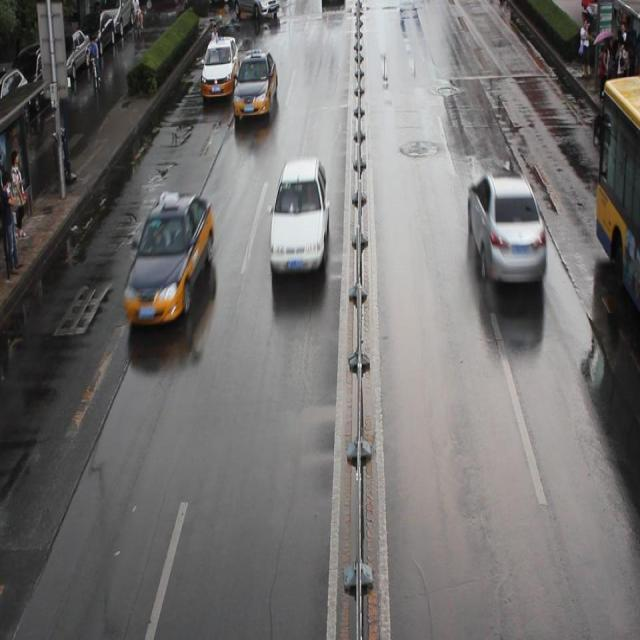car: (124, 191, 215, 323), (466, 170, 544, 284), (268, 156, 330, 273), (232, 48, 277, 118), (200, 38, 239, 96), (228, 1, 278, 22), (320, 1, 345, 7)
van: (592, 73, 640, 315)
